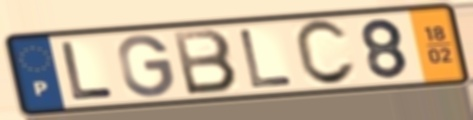8: (359, 16, 412, 81)
B: (169, 27, 241, 98)
C: (292, 17, 360, 89)
G: (115, 33, 177, 100)
L: (236, 28, 297, 91), (58, 39, 118, 103)
